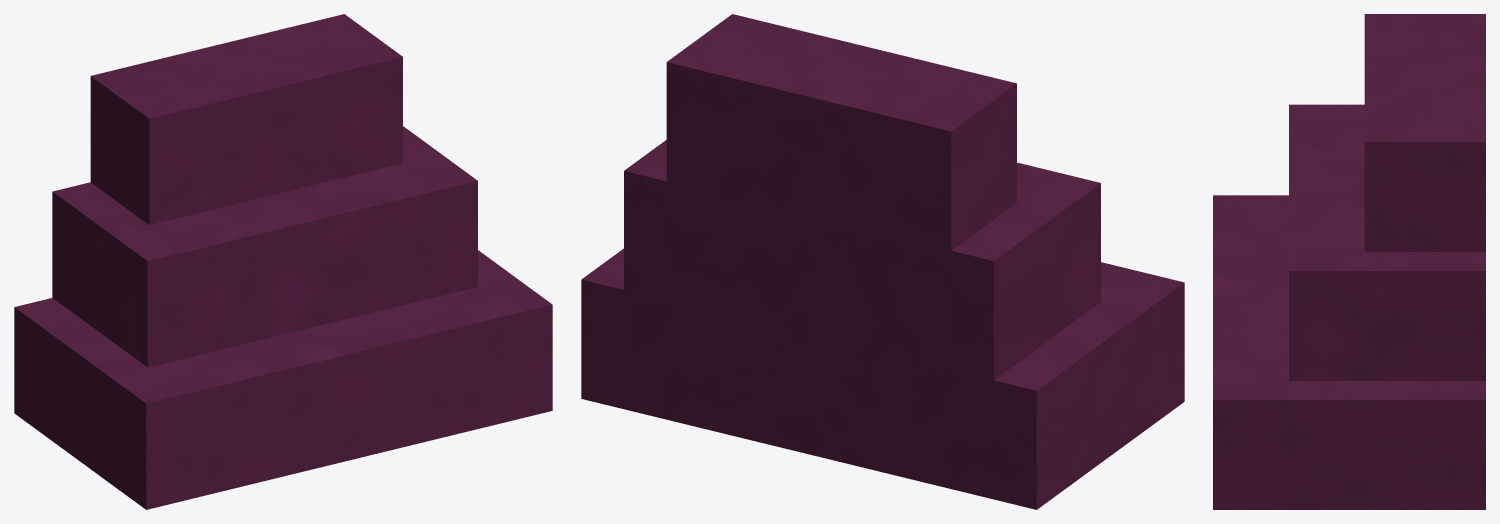
Rendered from altar3.obj.
The picture shows the model from 3 angles, left to right: view 1: azimuth 30°, elevation 25°; view 2: azimuth 150°, elevation 25°; view 3: azimuth 270°, elevation 25°; orthographic projection. The views are drawn at different scales.
Parts seen in each view (by area): view 1: altar3; view 2: altar3; view 3: altar3.
Part boxes in pixels (x1,y1,x2,y2): altar3: (14, 14, 552, 509); altar3: (581, 14, 1184, 509); altar3: (1213, 14, 1485, 509).
Bounding box in the file's own units: 1.6 × 1.2 × 0.9.
1 material, 1 textured.
